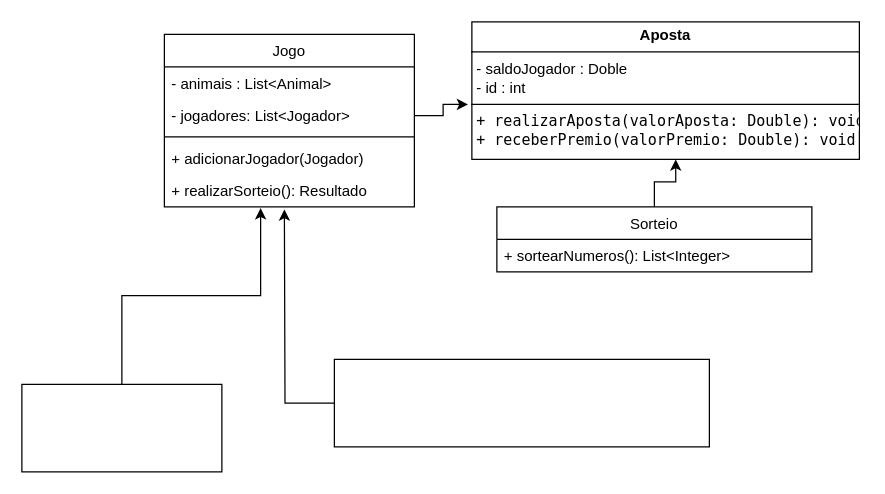
The diagram is 885 pixels wide and 494 high, and some of its shapes have lost their labels. Here are the shapes that lost their labels. From the top down, the centre of each, then its label:
the point at 521,402: Jogador - nome: String - cpf : Int
the point at 121,427: Animal - nome: String - numero: Int
